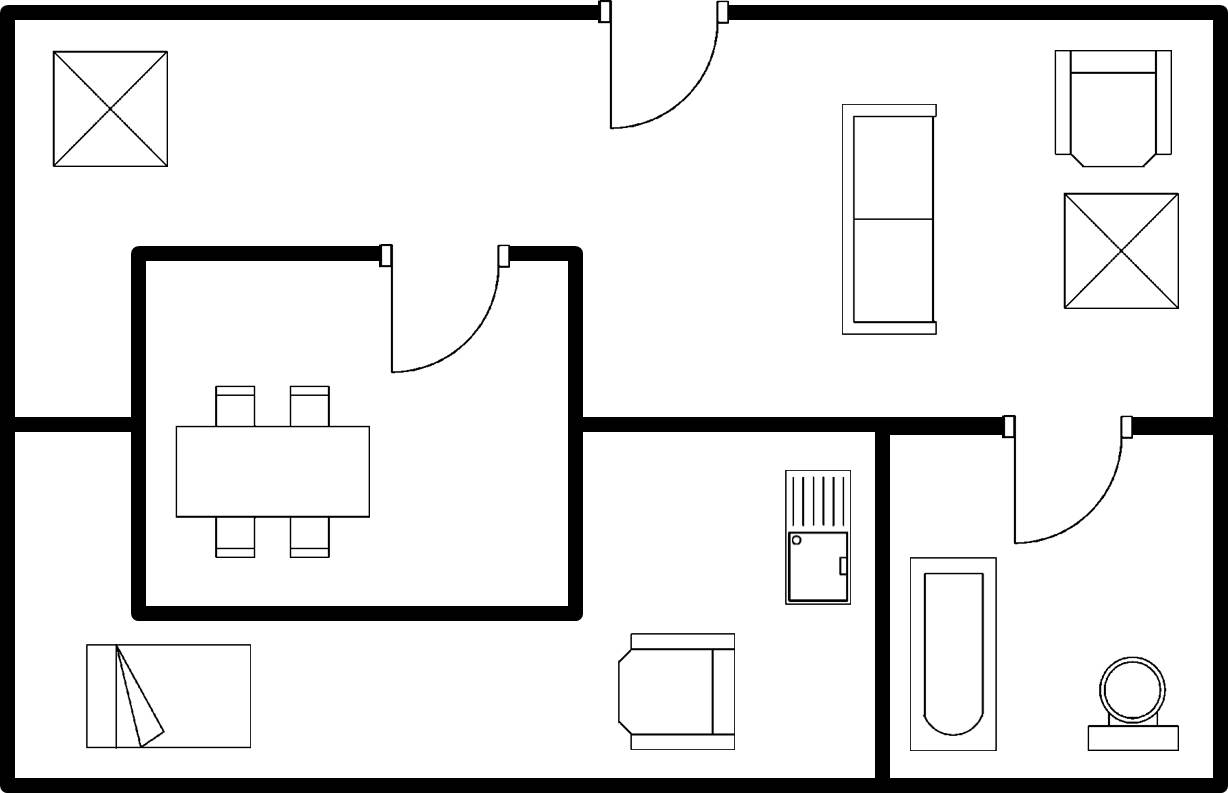armchair: (610, 624, 742, 760), (46, 43, 177, 175), (1049, 44, 1177, 173)
bed: (79, 637, 256, 757)
coffee_table: (1056, 186, 1186, 322)
dining_table: (172, 378, 380, 566)
large_sink: (1082, 648, 1185, 757)
large_sofa: (834, 97, 945, 341)
sink: (779, 464, 856, 616)
tub: (903, 551, 1003, 759)
